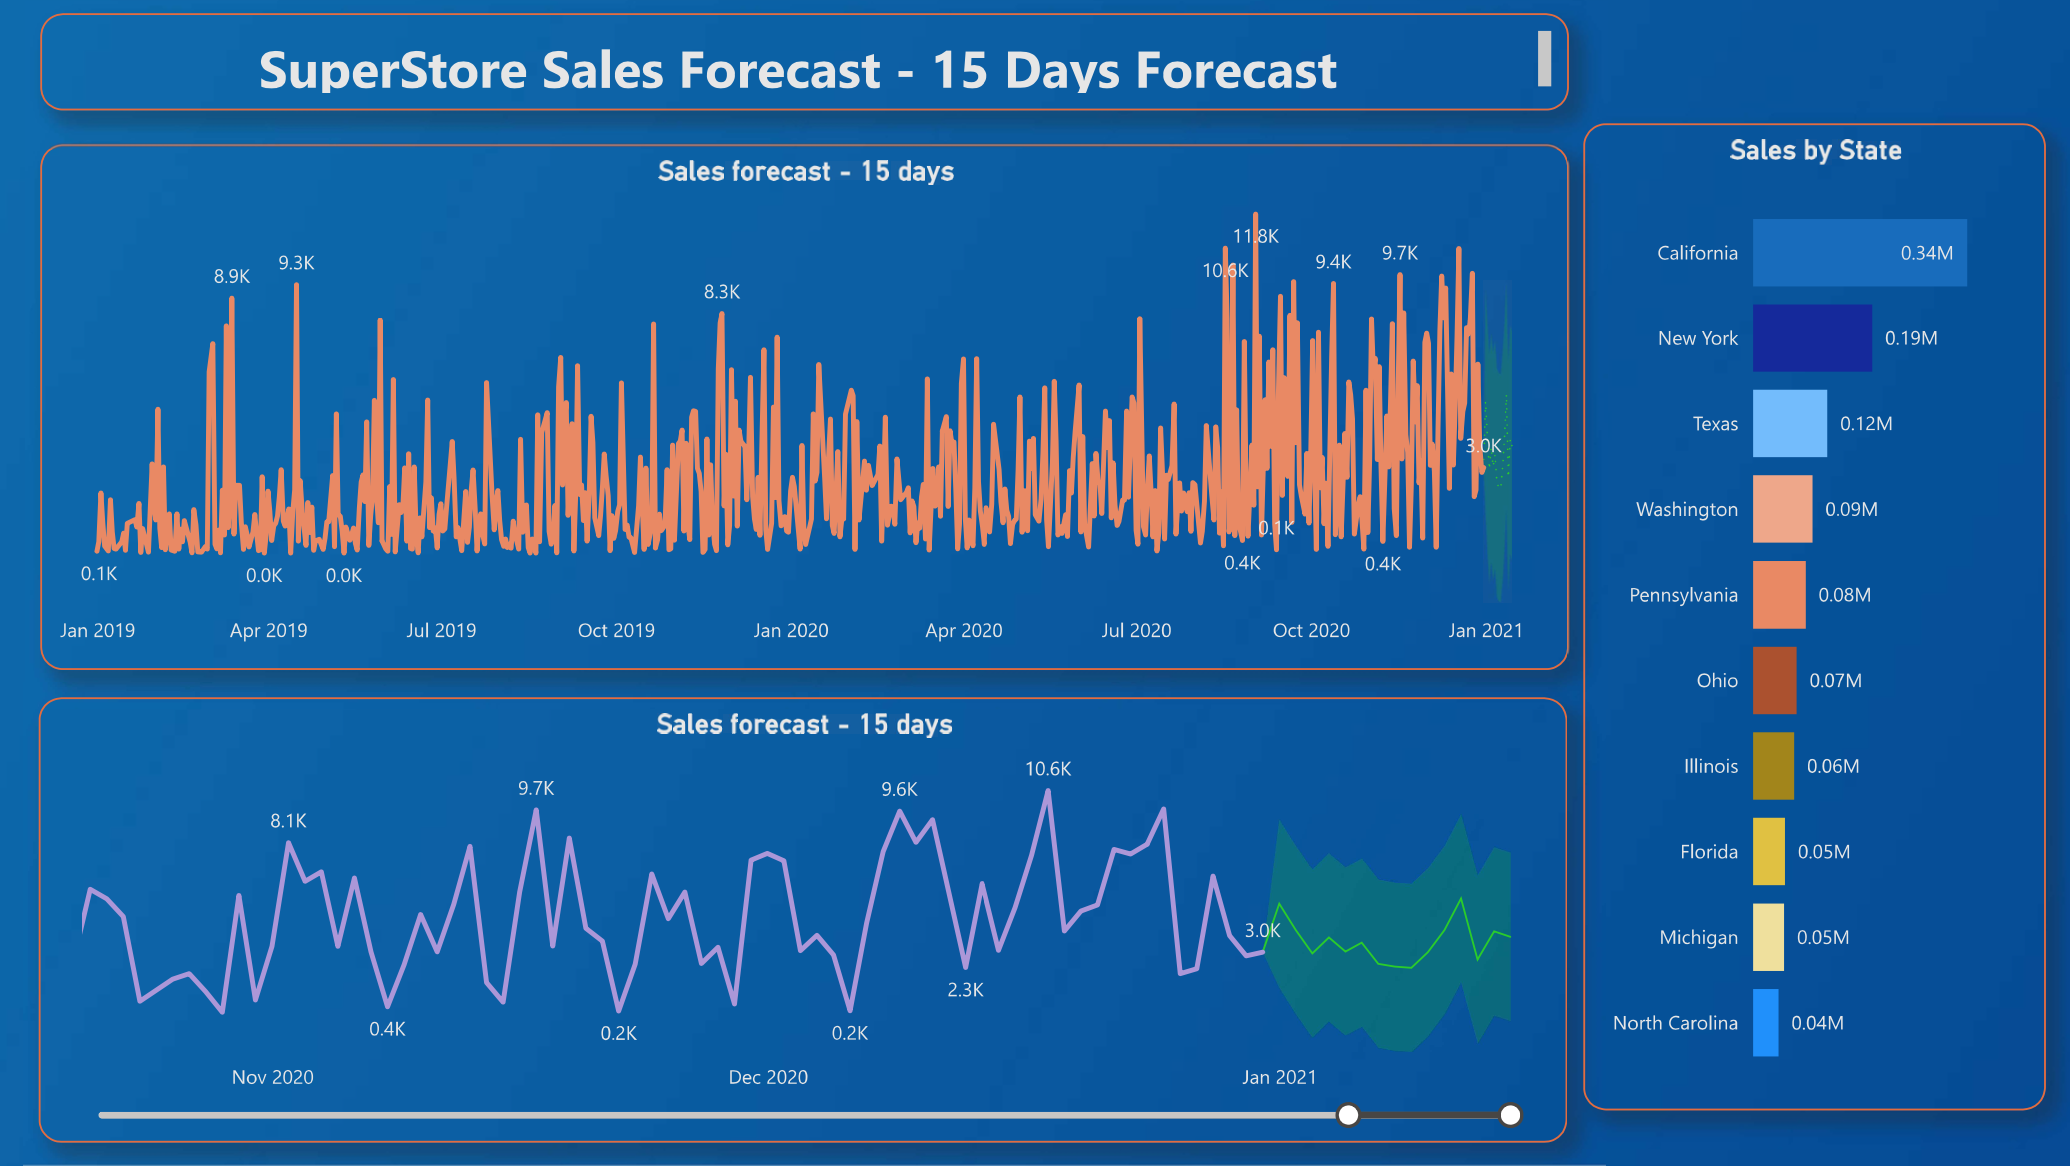

Layout of this report page (visuals, bound fields, positions):
{"tool":"powerbi","page":{"name":"Forecast","canvas":[1280,720],"ordinal":1},"visuals":[{"type":"lineChart","title":"Sales forecast - 15 days","fields":{"Y":["Sum(SuperStore_Sales_Dataset.Sales)"],"Category":["SuperStore_Sales_Dataset.Order Date"]},"box":[25.5,89.2,944.4,324.4],"z":0},{"type":"lineChart","title":"Sales forecast - 15 days","fields":{"Y":["Sum(SuperStore_Sales_Dataset.Sales)"],"Category":["SuperStore_Sales_Dataset.Order Date"]},"box":[24.3,431,944.4,274.6],"z":1000},{"type":"textbox","box":[25.5,8.1,944.4,60.3],"z":2000},{"type":"clusteredBarChart","title":"Sales by State","fields":{"Y":["Sum(SuperStore_Sales_Dataset.Sales)"],"Category":["SuperStore_Sales_Dataset.State"]},"box":[979.1,76.5,286.2,609.5],"z":3000}]}

Visuals, with their boxes in screenshot pixels (x1, y1, x2, y2), scaled from the page's 1280x720 canvas onto the 2070x1166 screenshot:
"Sales forecast - 15 days" lineChart: x1=41, y1=144, x2=1569, y2=670
"Sales forecast - 15 days" lineChart: x1=39, y1=698, x2=1567, y2=1143
textbox: x1=41, y1=13, x2=1569, y2=111
"Sales by State" clusteredBarChart: x1=1583, y1=124, x2=2046, y2=1111
